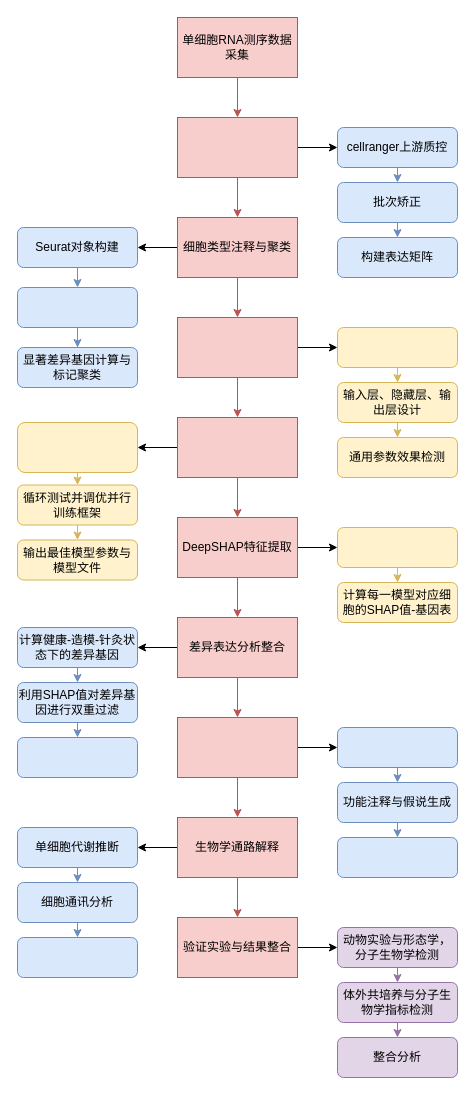
This 475x1095 diagram has some shape labels left out. Here are the shapes that lost their labels. From the top down, the box of each, then its label:
(176, 116, 298, 178): 数据预处理与质控
(16, 286, 138, 328): 细胞聚类与注释
(176, 316, 298, 378): 深度学习模型构建
(336, 326, 458, 368): 表达矩阵输出与矩阵注释
(16, 422, 138, 472): 建立超参搜索策略：学习率，层数，激活函数
(176, 416, 298, 478): 超参数优化与模型训练
(336, 526, 458, 568): 评估模型表现并输出可视化结果
(16, 736, 138, 778): 得到经过非线性过滤后的差异基因数据集
(176, 716, 298, 778): 基因富集分析
(336, 726, 458, 768): 差异基因富集与数据集输出
(336, 836, 458, 878): 下游单细胞功能分析
(16, 936, 138, 978): 转录因子推断
